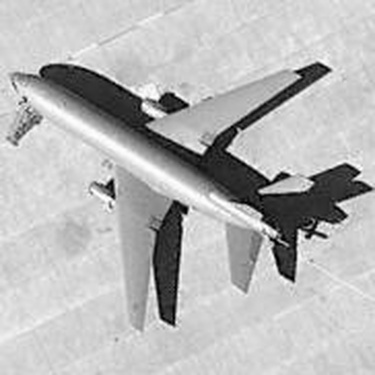airplane: (7, 24, 350, 344)
